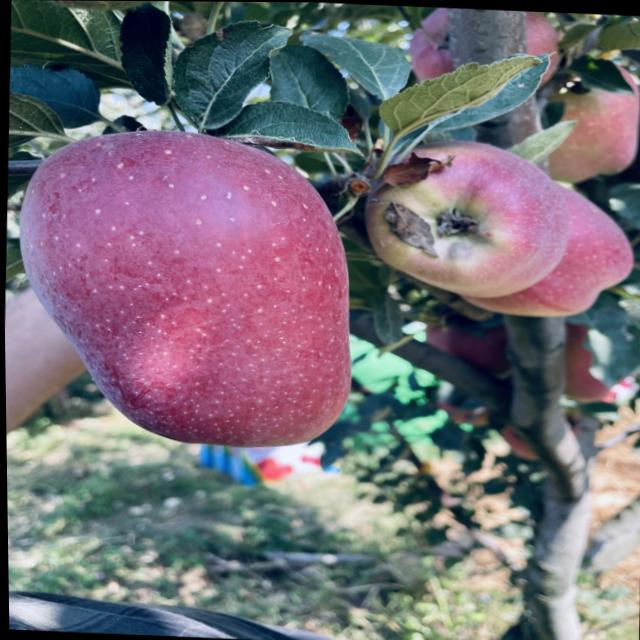Apple: (20, 130, 349, 446), (364, 139, 568, 296), (463, 185, 633, 316)
